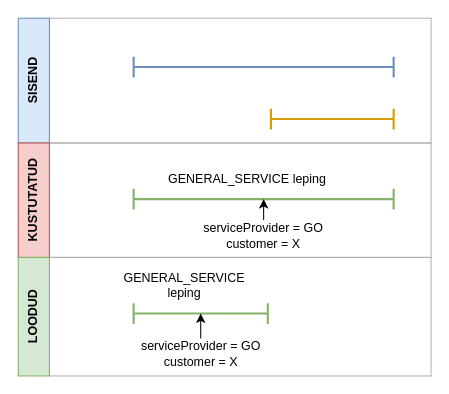
The diagram is 449 pixels wide and 394 high, and some of its shapes have lost their labels. The shapes that lost their labels are listed below. From the top down, each one's box as (x1, y1, x2, y2) in pixels, then its label:
(132, 55, 394, 78): GRID leping kliendiga X
(269, 107, 394, 130): SUPPLY leping
